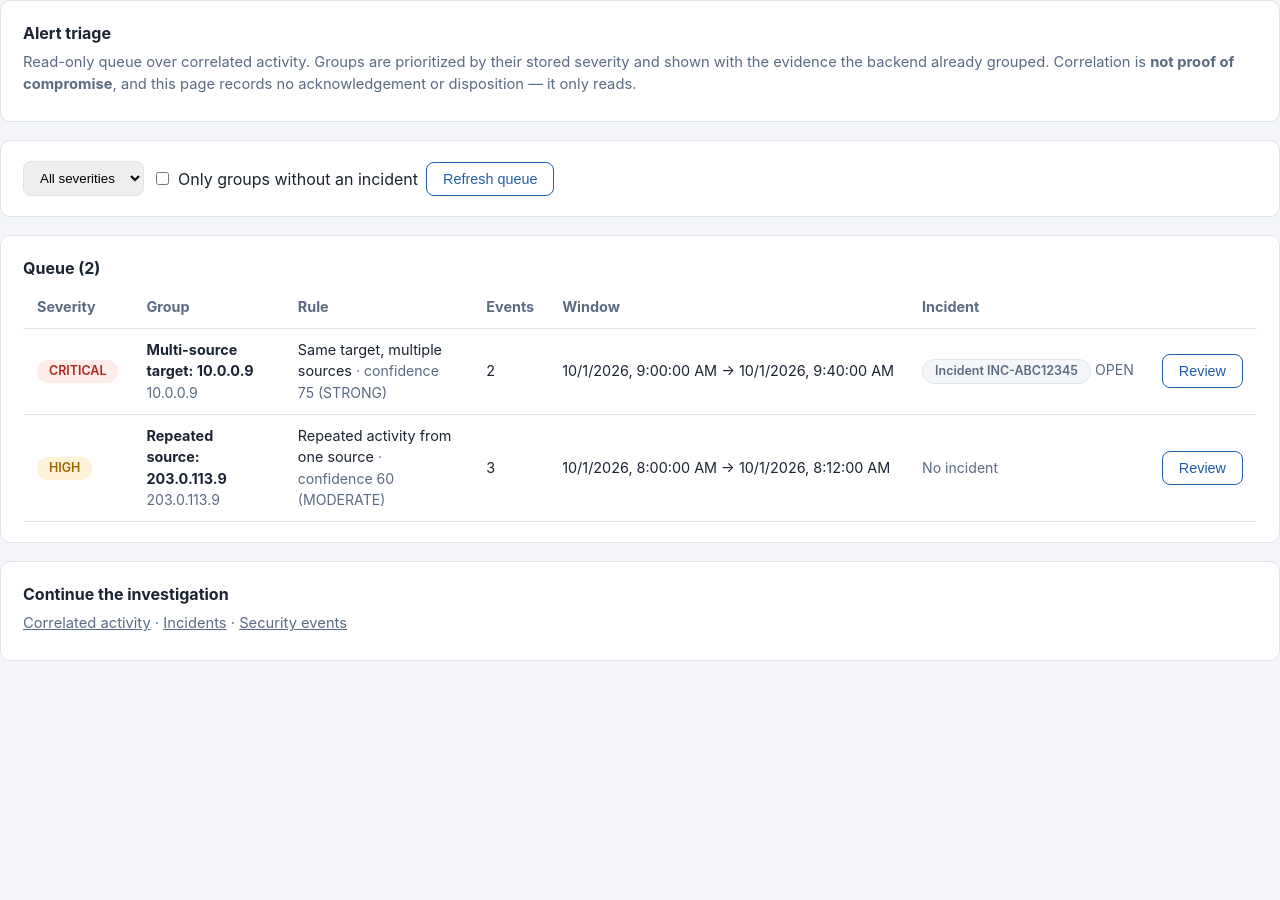
Alert triage queue (Phase 3, Step 37) › is read-only GET traffic and links onward to existing workspaces
Expected: the number of rows is 3, [23,286,1257,328]; [23,328,1257,414]; [23,414,1257,522]
Click the button "Review" in the row of "CRITICAL": (1202, 371) [1162,354,1243,388]
(page scrolled)
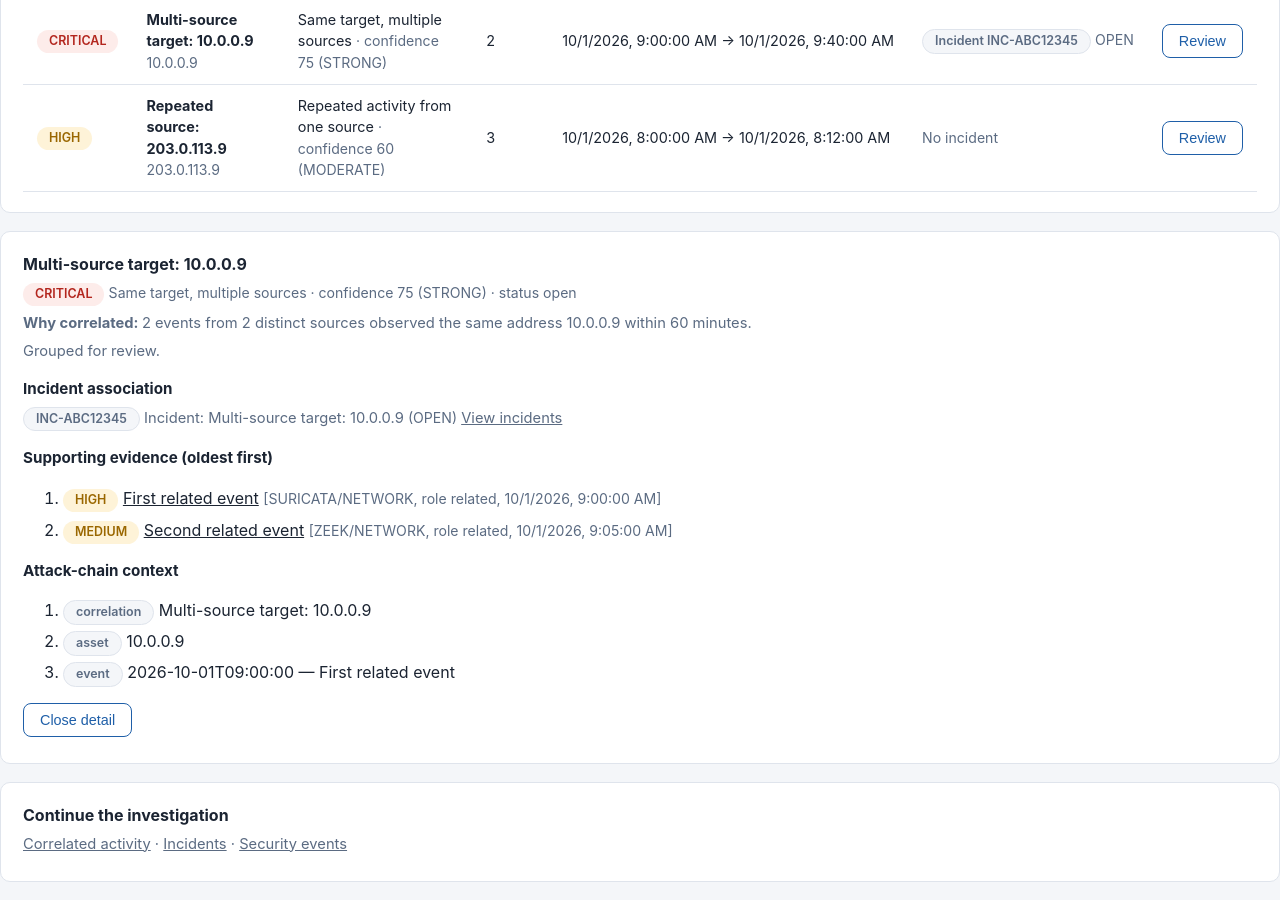
Expected: the element named "Alert detail" is shown, [0,231,1279,764]
Expected: the text "2 events from 2 distinct sources" is shown, [142,314,752,332]
